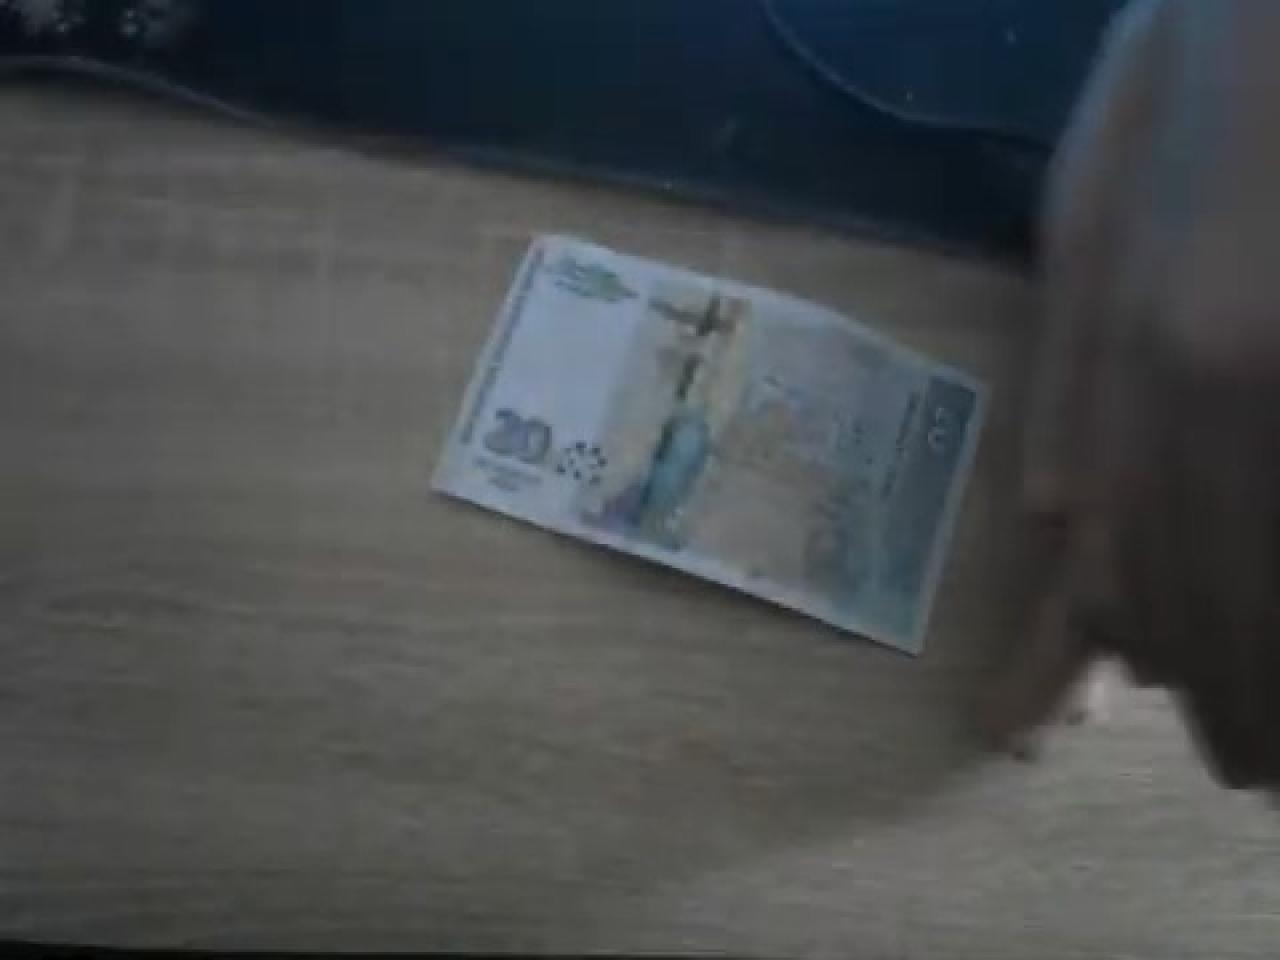20leva: (426, 227, 992, 658)
